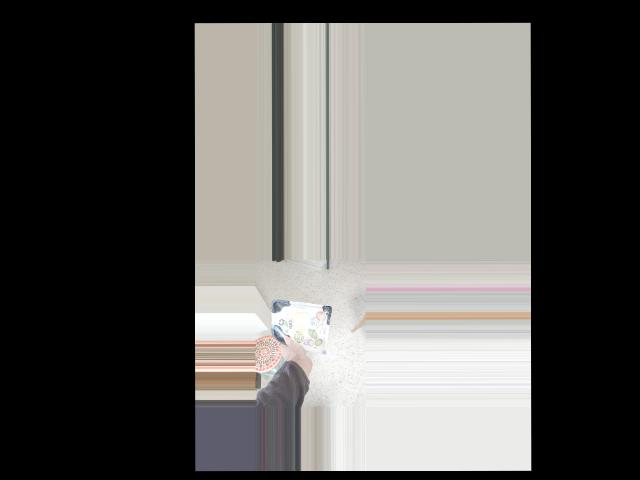cheese: (279, 316, 330, 363)
